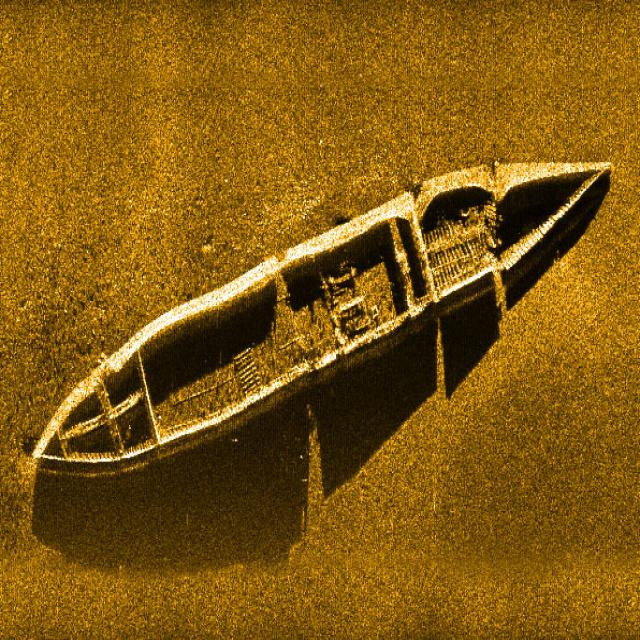ship: (34, 142, 610, 482)
